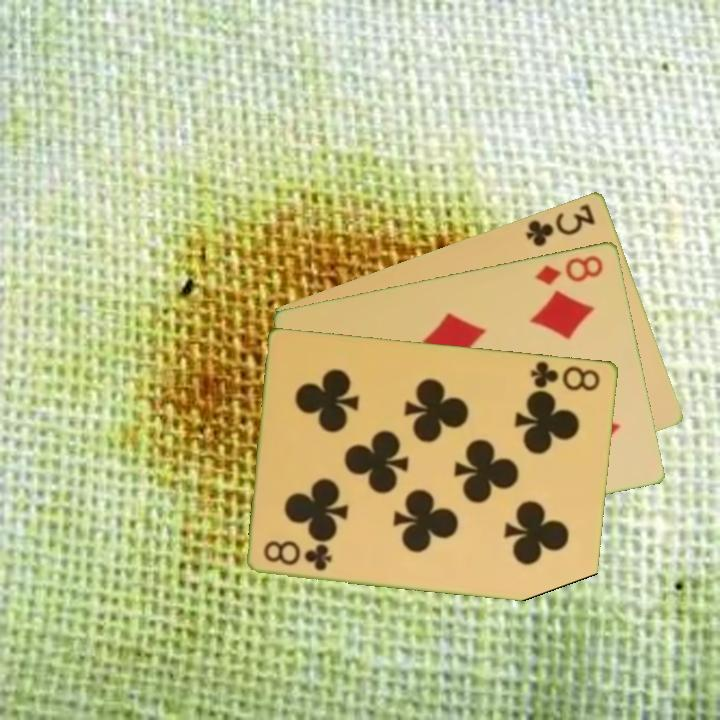3c: (522, 200, 598, 249)
8c: (260, 536, 335, 574), (527, 357, 603, 394)
8d: (531, 251, 606, 288)
